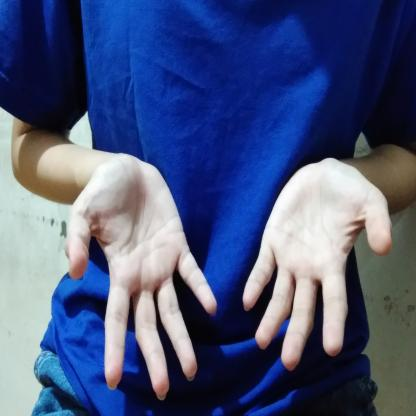what: (58, 146, 396, 411)
